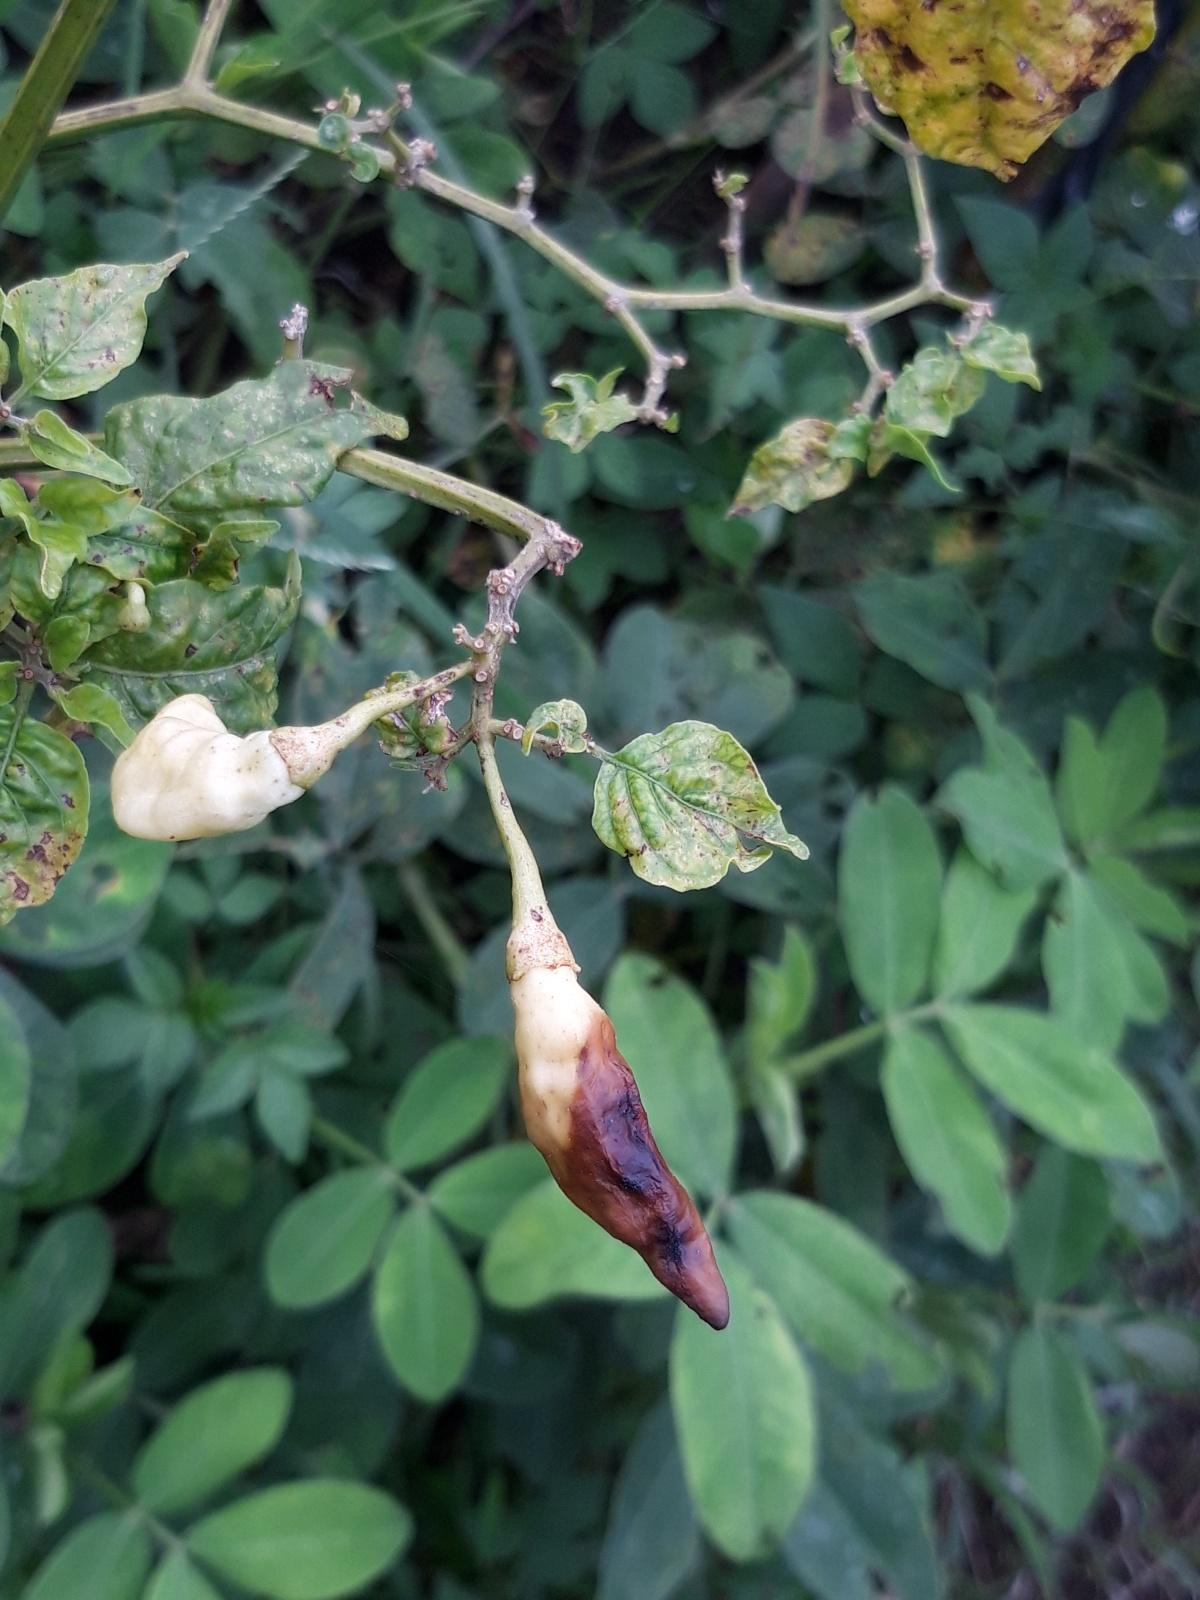cabai_normal: (107, 689, 326, 840)
lalat_buah: (500, 918, 734, 1330)
